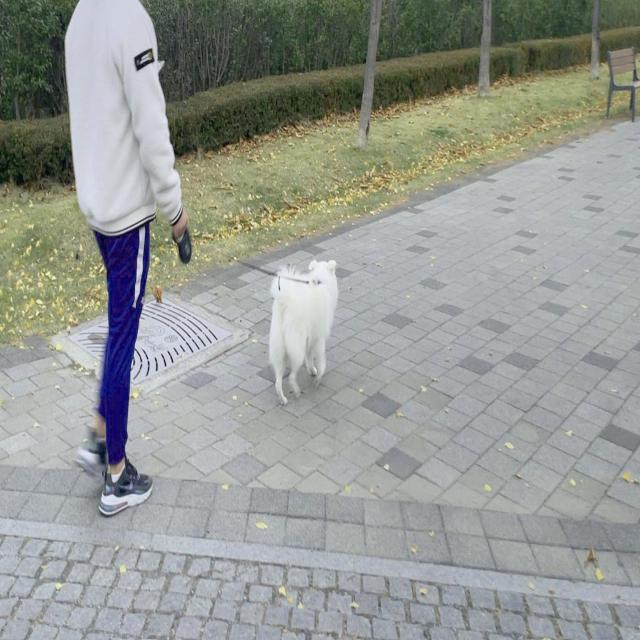Leashed_Dog: (126, 146, 339, 408)
